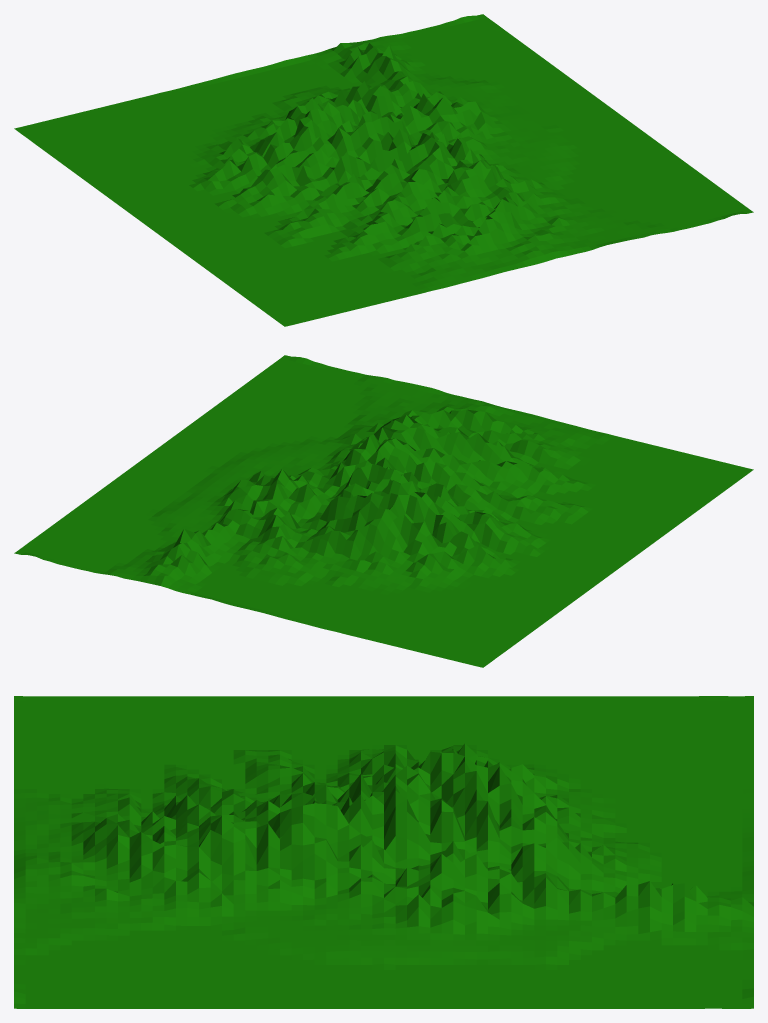
Rendered from BabylonTerrain1.obj.
The picture shows the model from 3 angles, top to bottom: view 1: azimuth 30°, elevation 25°; view 2: azimuth 150°, elevation 25°; view 3: azimuth 270°, elevation 25°; orthographic projection. The views are drawn at different scales.
Visible parts, largest first — view 1: Plane; view 2: Plane; view 3: Plane.
Boxes of the visible parts, <box> form: Plane: <box>14,14,753,326</box>; Plane: <box>14,355,753,667</box>; Plane: <box>14,696,753,1008</box>.
Bounding box in the file's own units: 2 × 0.2 × 2.
